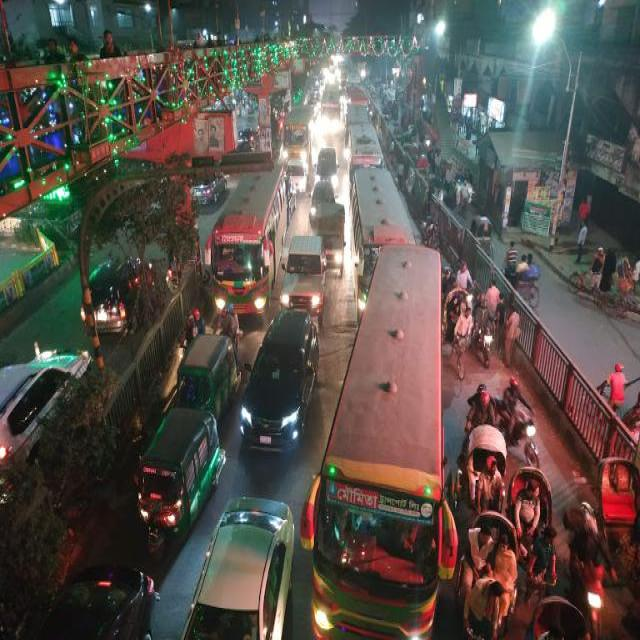Bus: (299, 242, 458, 638)
Car: (179, 493, 295, 639), (237, 305, 320, 455)
TokTok: (132, 404, 226, 553)
